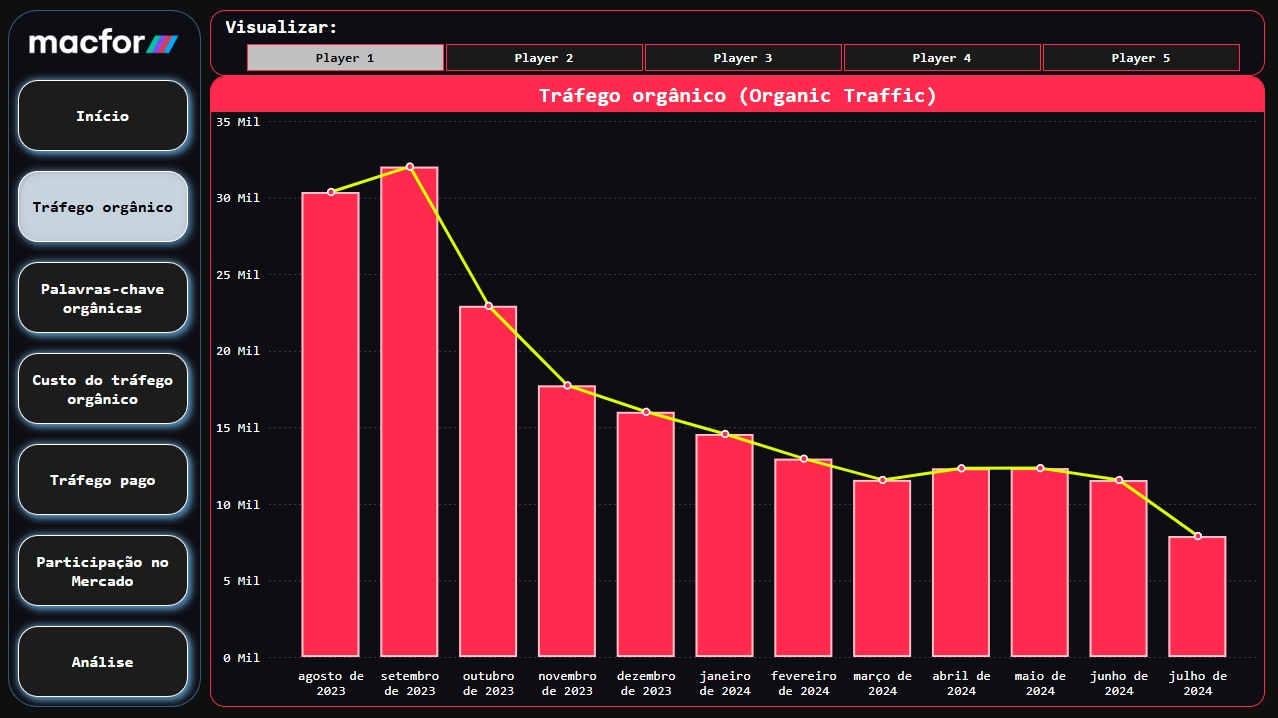

Layout of this report page (visuals, bound fields, positions):
{"tool":"powerbi","page":{"name":"Tráfego orgânico","canvas":[1280,720],"ordinal":1},"visuals":[{"type":"lineClusteredColumnComboChart","title":"Tráfego orgânico (Organic Traffic)","fields":{"Category":["Organic traffic (Organic traffic).Data"],"Series":["Organic traffic (Organic traffic).Player"],"Y":["Sum(Organic traffic (Organic traffic).Valor)"],"Y2":["Sum(Organic traffic (Organic traffic).Valor)"]},"box":[211,77,1055,631],"z":1000},{"type":"slicer","title":"Visualizar:","fields":{"Values":["Organic traffic (Organic traffic).Player"]},"box":[211,11,1055,66],"z":2000},{"type":"shape","box":[9,11,193,697],"z":3000},{"type":"pageNavigator","box":[9,71,190,637],"z":4000},{"type":"image","box":[12,19,187,53],"z":5000}]}

Visuals, with their boxes in screenshot pixels (x1, y1, x2, y2), scaled from the page's 1280x720 canvas onto the 1278x718 screenshot:
"Tráfego orgânico (Organic Traffic)" lineClusteredColumnComboChart: [211,77,1264,706]
"Visualizar:" slicer: [211,11,1264,77]
shape: [9,11,202,706]
pageNavigator: [9,71,199,706]
image: [12,19,199,72]
